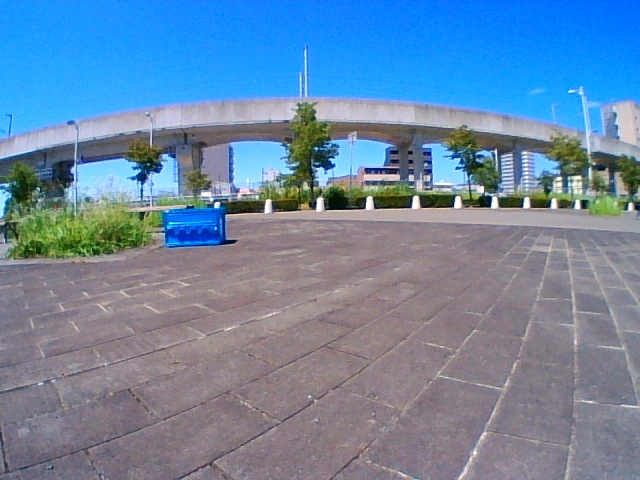blue_box: (166, 209, 225, 245)
tag: (219, 218, 221, 236)
